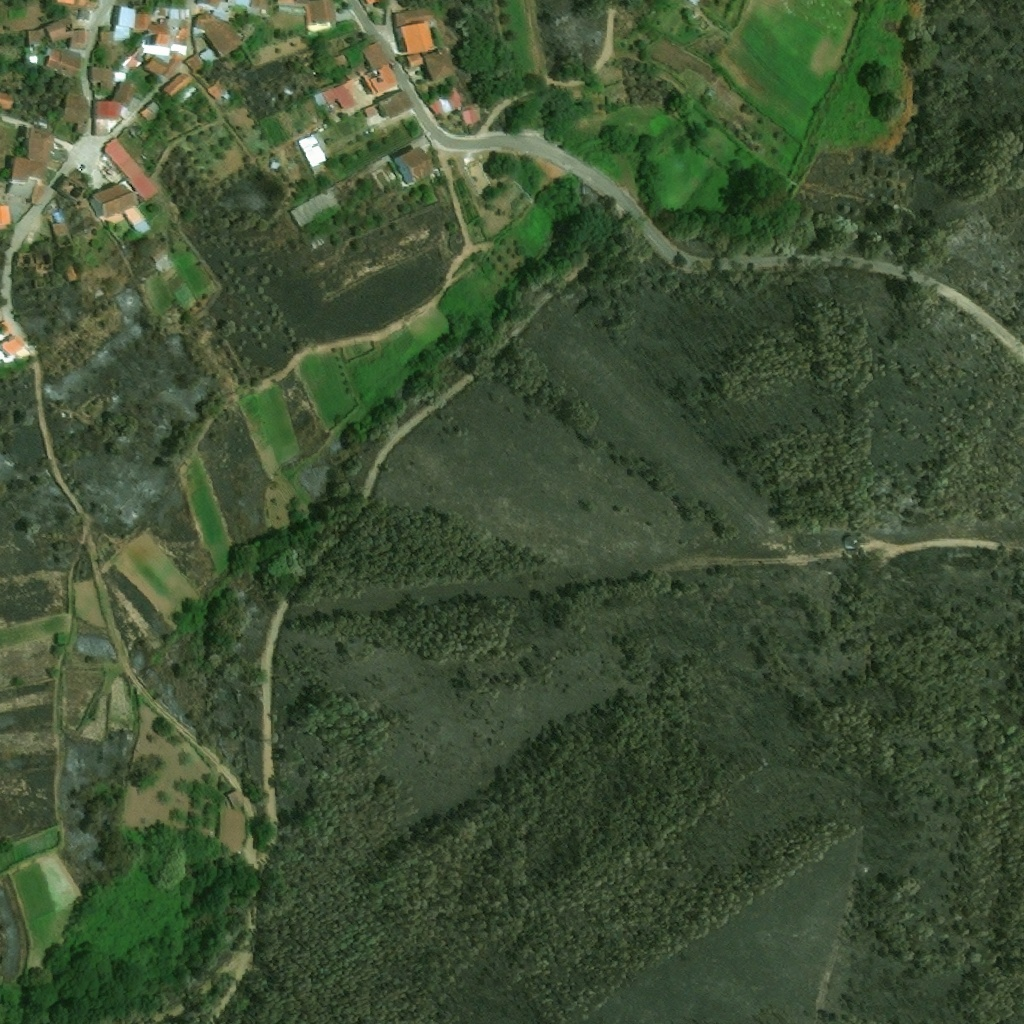0 no-damage: (393, 4, 455, 80), (6, 125, 56, 200), (103, 137, 160, 202), (131, 6, 189, 55), (193, 13, 247, 56), (287, 187, 339, 228), (25, 16, 86, 48), (393, 145, 435, 186), (142, 42, 187, 80), (89, 183, 138, 217), (316, 77, 359, 109), (362, 62, 399, 96), (298, 132, 327, 174), (89, 64, 132, 92), (44, 47, 81, 79), (61, 93, 88, 135), (426, 87, 462, 117), (378, 89, 414, 118), (122, 205, 152, 235), (99, 31, 124, 65), (360, 40, 388, 70), (112, 5, 136, 40), (160, 71, 191, 98), (304, 0, 336, 24), (110, 81, 138, 108), (206, 80, 232, 101), (0, 335, 25, 355), (140, 101, 161, 123), (50, 219, 70, 239), (184, 54, 205, 73), (96, 101, 116, 120), (460, 106, 477, 128), (198, 47, 218, 65), (842, 534, 868, 547), (344, 63, 366, 78), (0, 91, 15, 110), (363, 103, 379, 118), (0, 205, 11, 225), (0, 321, 12, 336), (77, 9, 89, 20), (270, 159, 281, 170)
3 destroyed: (55, 169, 90, 204), (63, 260, 78, 282), (309, 232, 328, 248)
4 un-classified: (14, 251, 55, 273), (197, 0, 231, 21), (250, 0, 268, 9), (228, 0, 251, 7), (278, 0, 308, 5), (75, 0, 96, 6), (57, 0, 75, 5), (364, 0, 378, 5), (687, 0, 699, 5)
